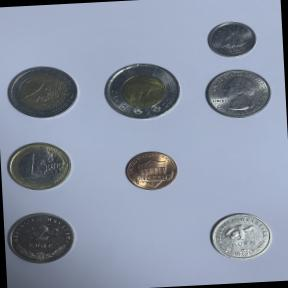coin: (100, 59, 186, 124), (2, 61, 83, 123), (4, 208, 80, 268), (200, 66, 276, 122), (1, 138, 76, 194), (118, 147, 184, 195), (202, 19, 261, 62)
